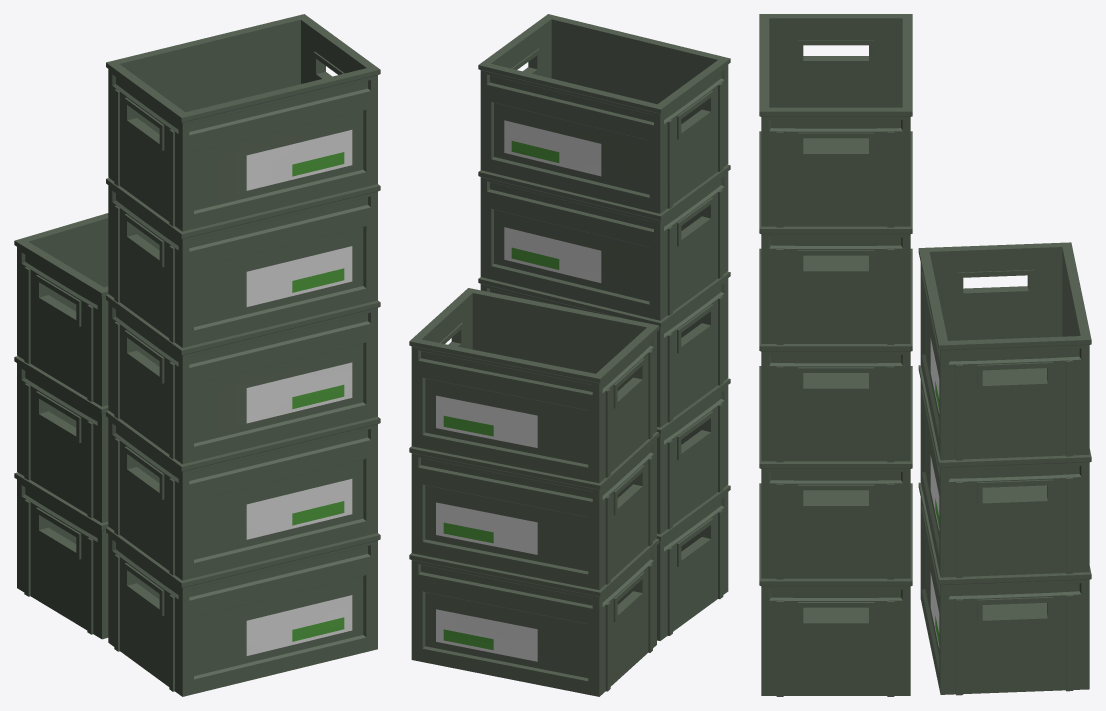
The model's file is SM_crate_1_set.gltf.
3 renders of one model, left to right at view 1: azimuth 30°, elevation 25°; view 2: azimuth 150°, elevation 25°; view 3: azimuth 270°, elevation 25°, orthographic. The views are drawn at different scales.
Parts seen in each view (by area): view 1: SM_crate_1_set; view 2: SM_crate_1_set; view 3: SM_crate_1_set.
Boxes of the visible parts, x1=… form: SM_crate_1_set: x1=14, y1=14, x2=380, y2=696; SM_crate_1_set: x1=409, y1=14, x2=730, y2=696; SM_crate_1_set: x1=759, y1=14, x2=1091, y2=696.
Size of the model in its own units: 0.7415 by 1.94 by 0.9982.
1 material, 1 textured.
